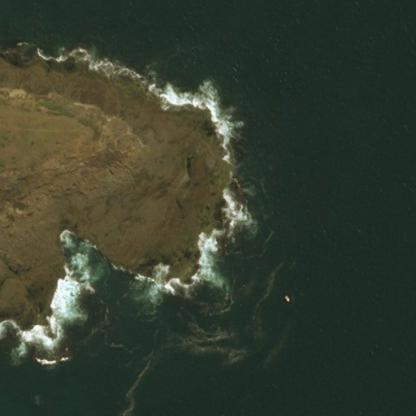ship: (276, 288, 297, 308)
